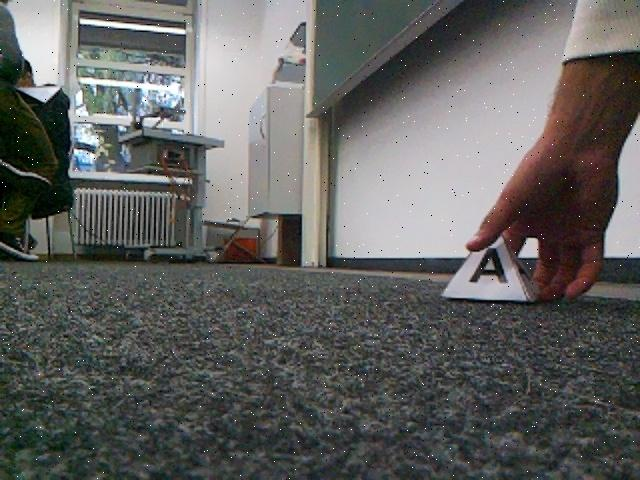A: (440, 227, 545, 302)
